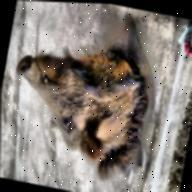boar: (0, 20, 160, 189)
